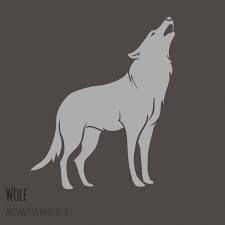Lobo: (17, 1, 215, 215)
